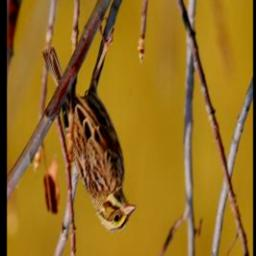Sparrow: (39, 16, 135, 235)
